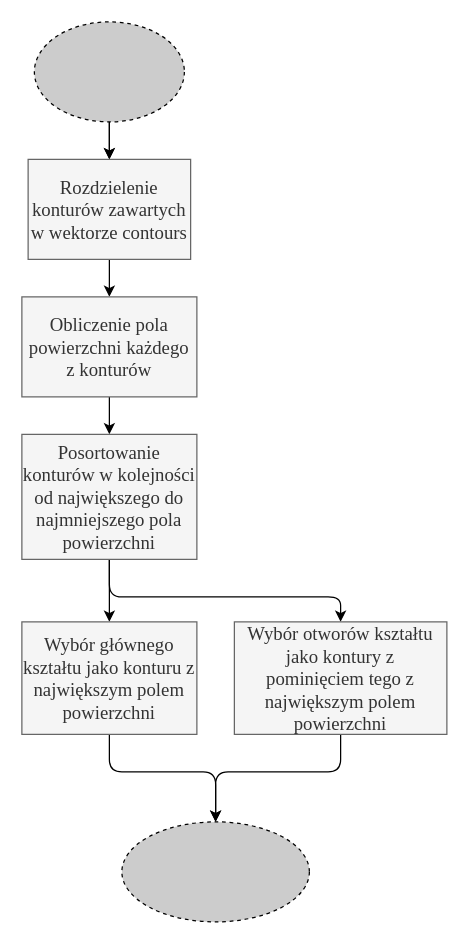
The diagram is 469 pixels wide and 944 high, and some of its shapes have lost their labels. The shapes that lost their labels are listed below. From the top down, each one's box as (x1, y1, x2, y2) in pixels, then its label:
(33, 21, 184, 122): input: contours
(121, 821, 309, 922): return: main_countur, holes
